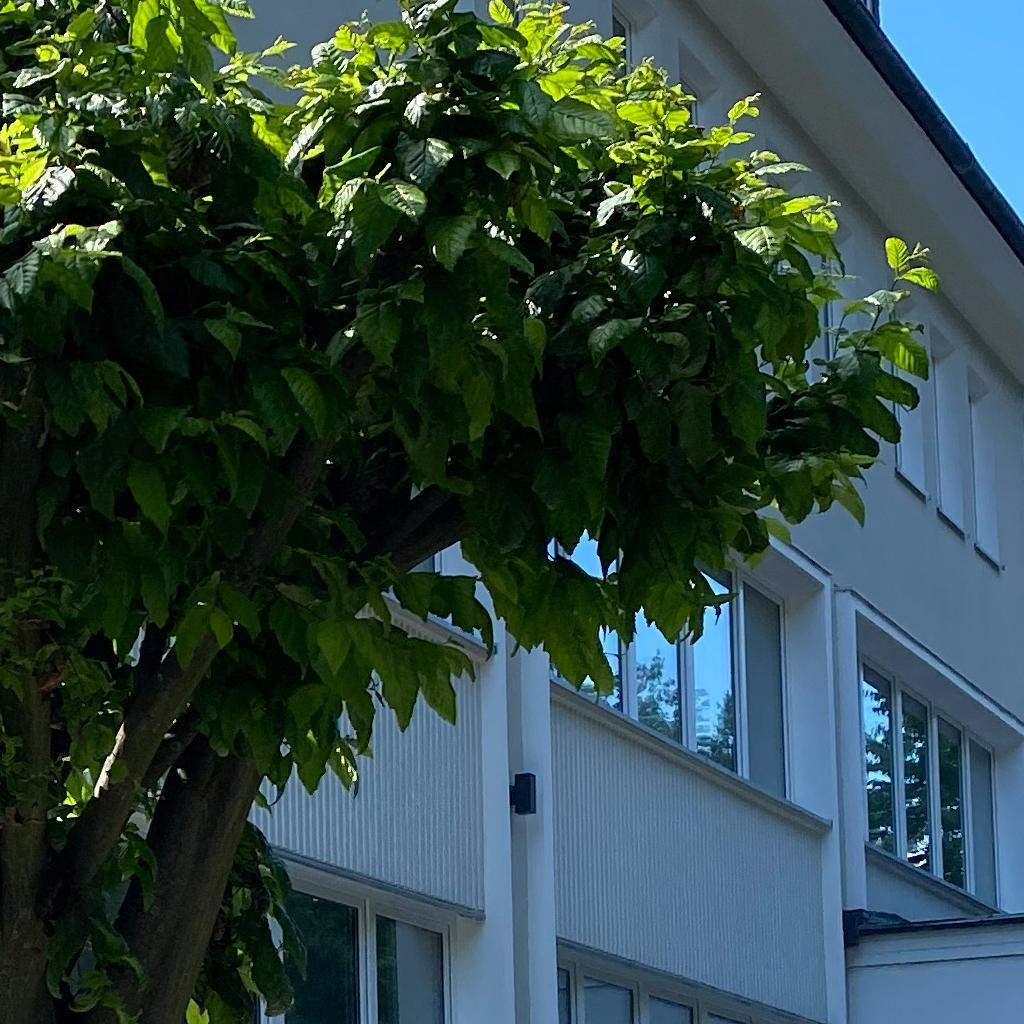tree: (1, 1, 942, 1023)
